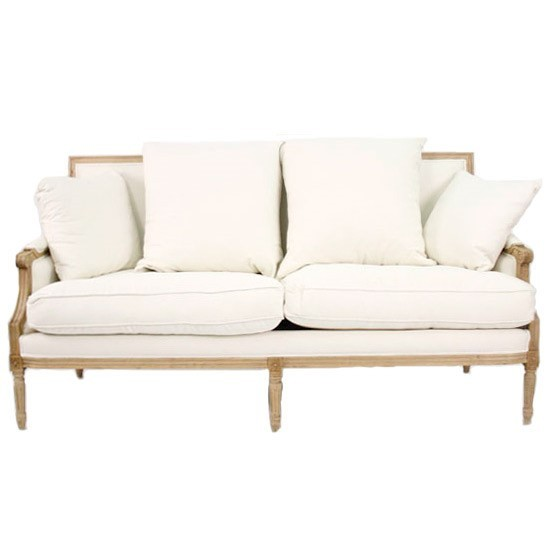chairs: (1, 140, 548, 434)
